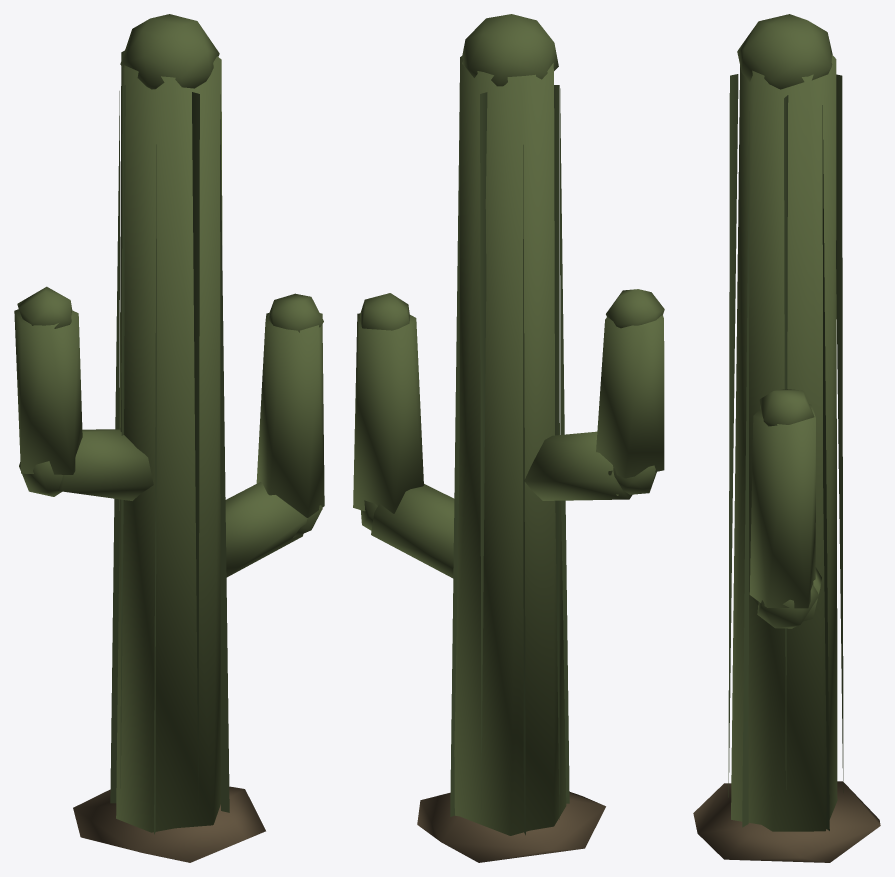
Rendered from saguaro_a_lod2.glb.
The picture shows the model from 3 angles, left to right: view 1: azimuth 30°, elevation 25°; view 2: azimuth 150°, elevation 25°; view 3: azimuth 270°, elevation 25°; orthographic projection.
Parts seen in each view (by area): view 1: Surface.001; view 2: Surface.001; view 3: Surface.001.
Part boxes in pixels (bbox=[...]): Surface.001: bbox=[14, 14, 324, 862]; Surface.001: bbox=[353, 14, 664, 862]; Surface.001: bbox=[693, 14, 880, 862].
Size of the model in its own units: 1.9 by 4.86 by 1.01.
